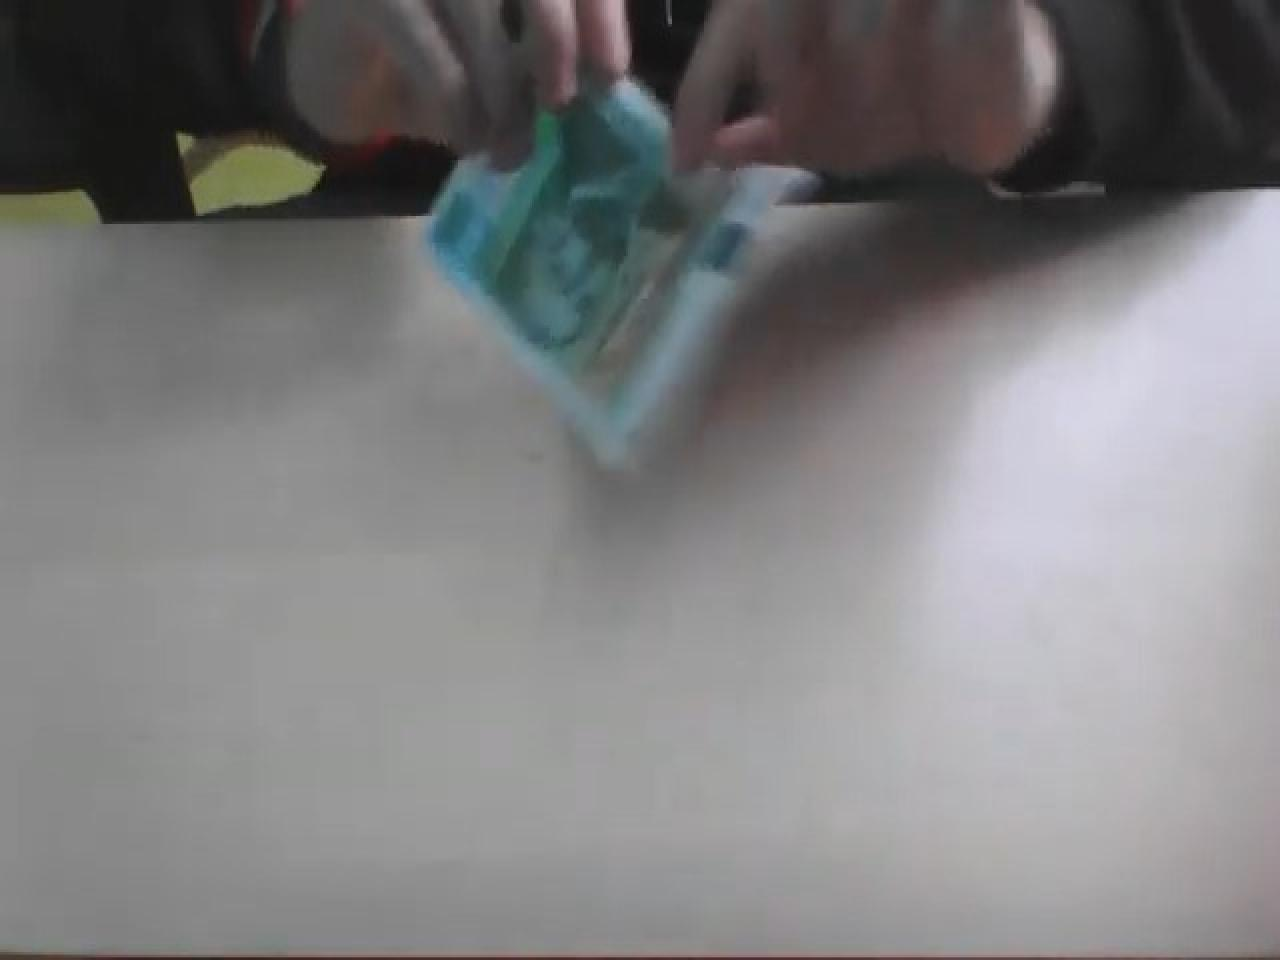100leva: (422, 58, 820, 477)
